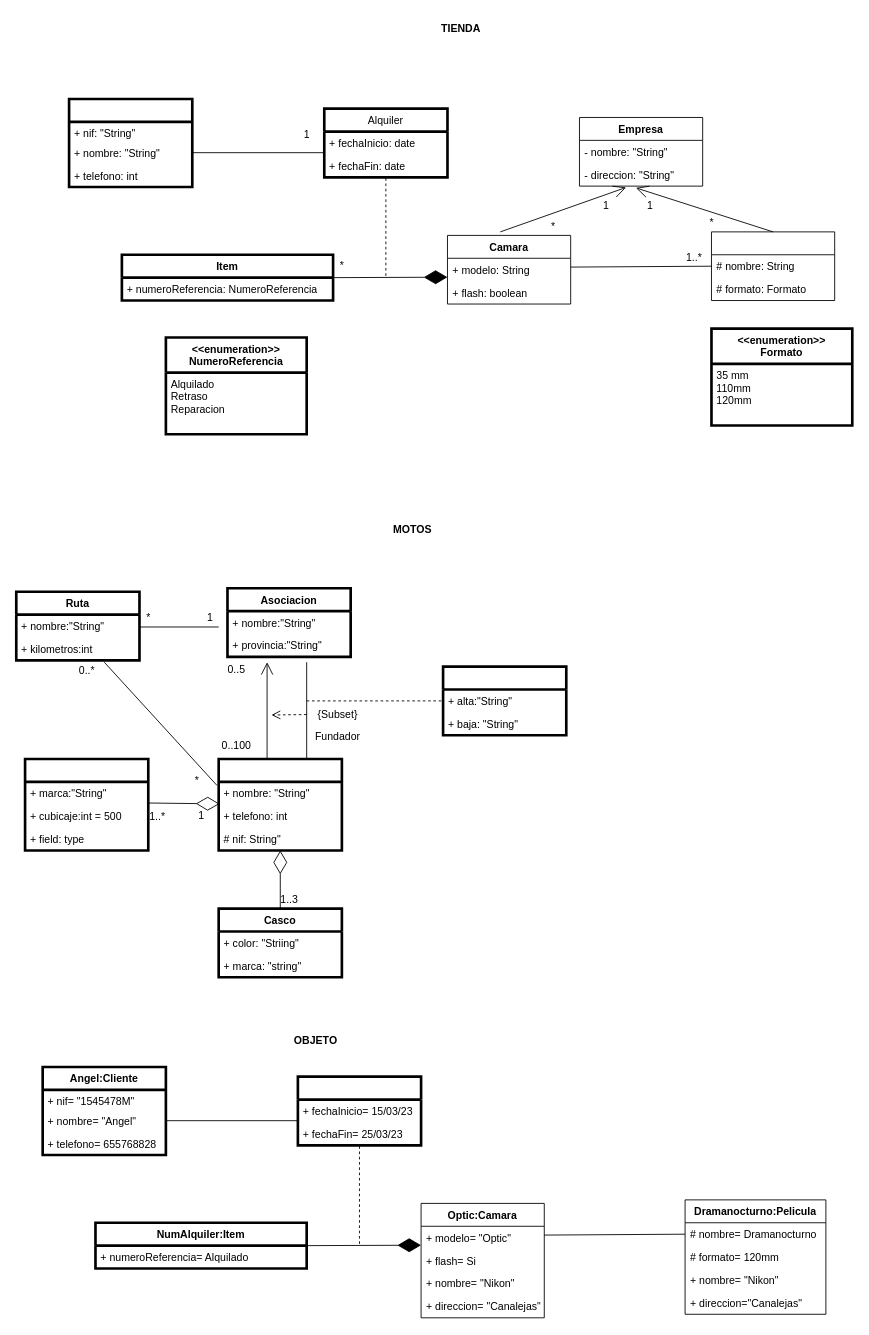
The diagram is 869 pixels wide and 1335 high, and some of its shapes have lost their labels. The shapes that lost their labels are listed below. From the top down, each one's box as (x1, y1, x2, y2) in pixels, then its label:
(67, 97, 193, 188): Cliente
(711, 231, 835, 301): Pelicula
(441, 665, 567, 736): Nombreasociacion
(23, 757, 149, 851): Moto
(217, 757, 343, 851): Persona
(296, 1075, 422, 1146): Estaalquilado:Alquiler
